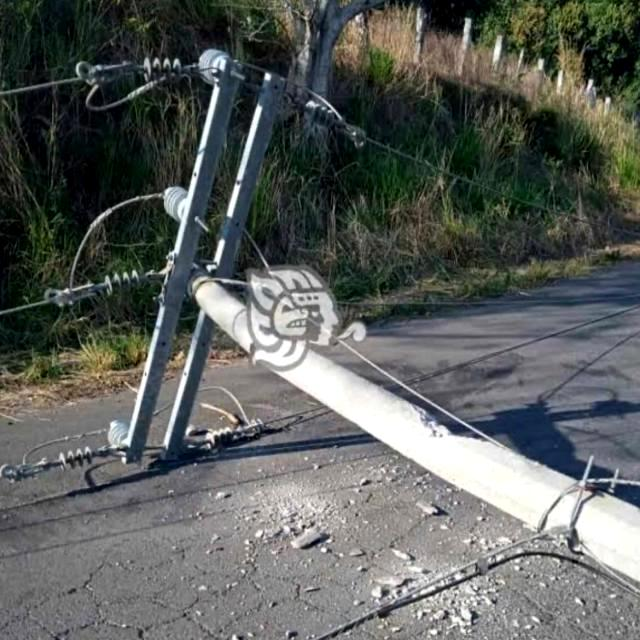Broken Pole: (0, 31, 639, 585)
